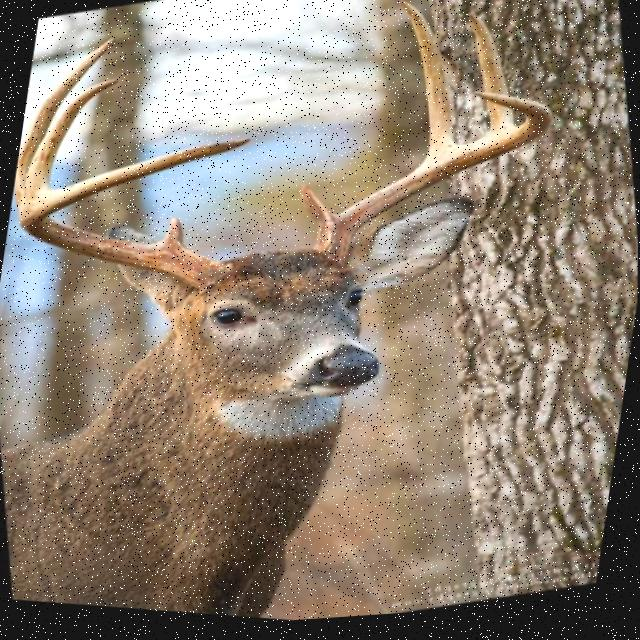L-F: (19, 141, 252, 293)
R-F: (315, 98, 552, 269), (302, 189, 332, 237)
